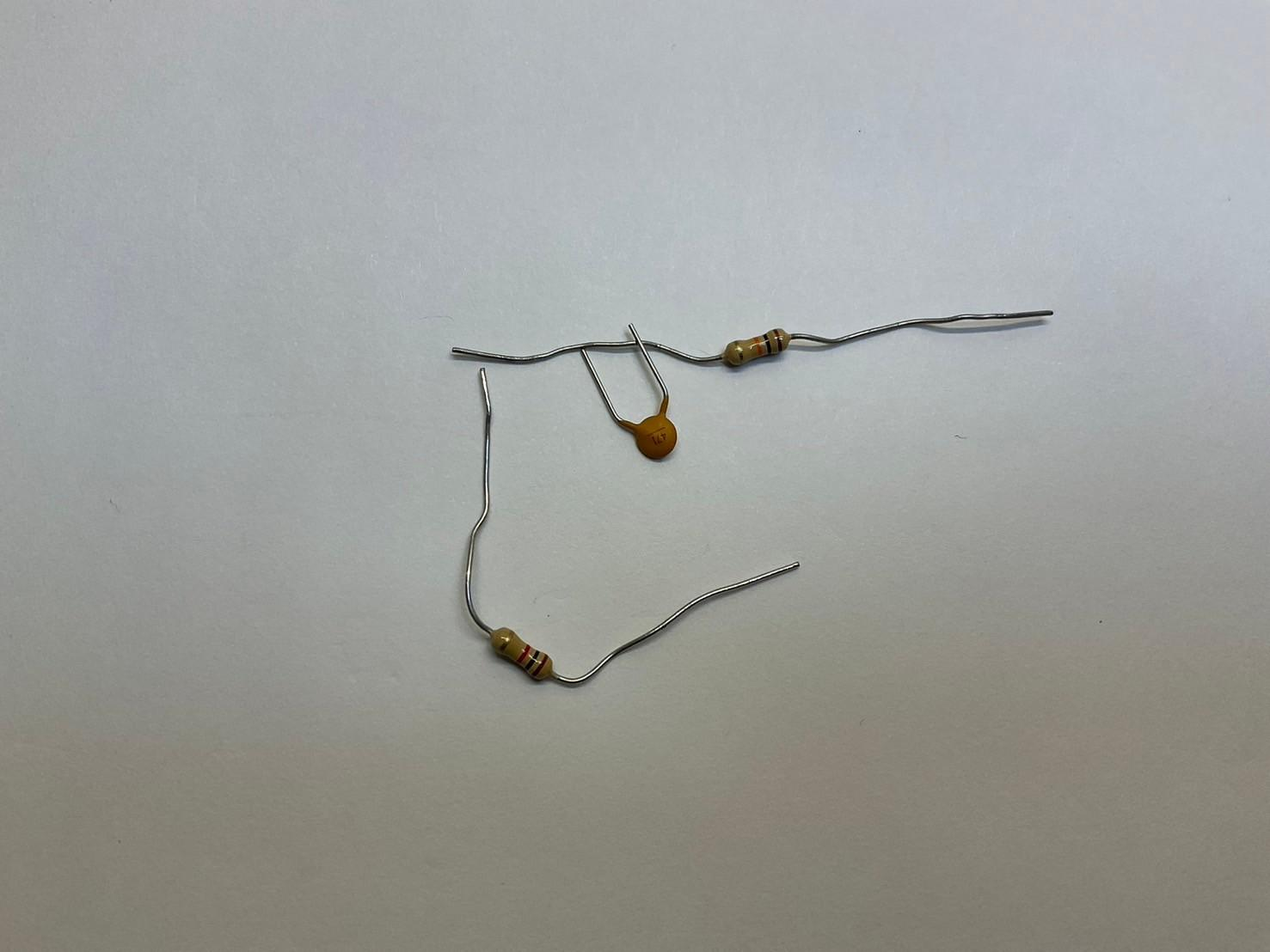resistor: (486, 627, 552, 684), (720, 325, 794, 367)
